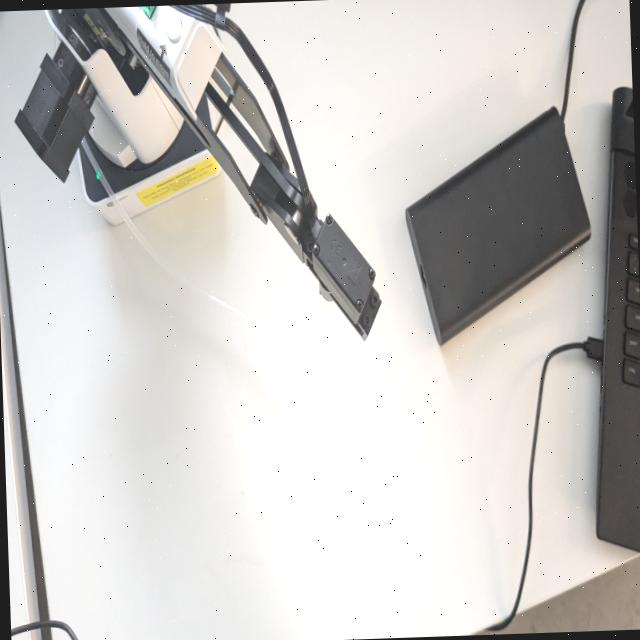Robot-end-effector-HF8z: (308, 210, 386, 344)
